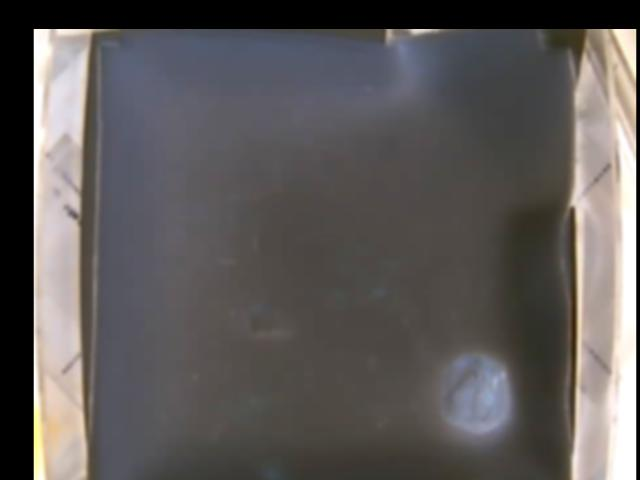Pebble: (440, 351, 508, 434)
